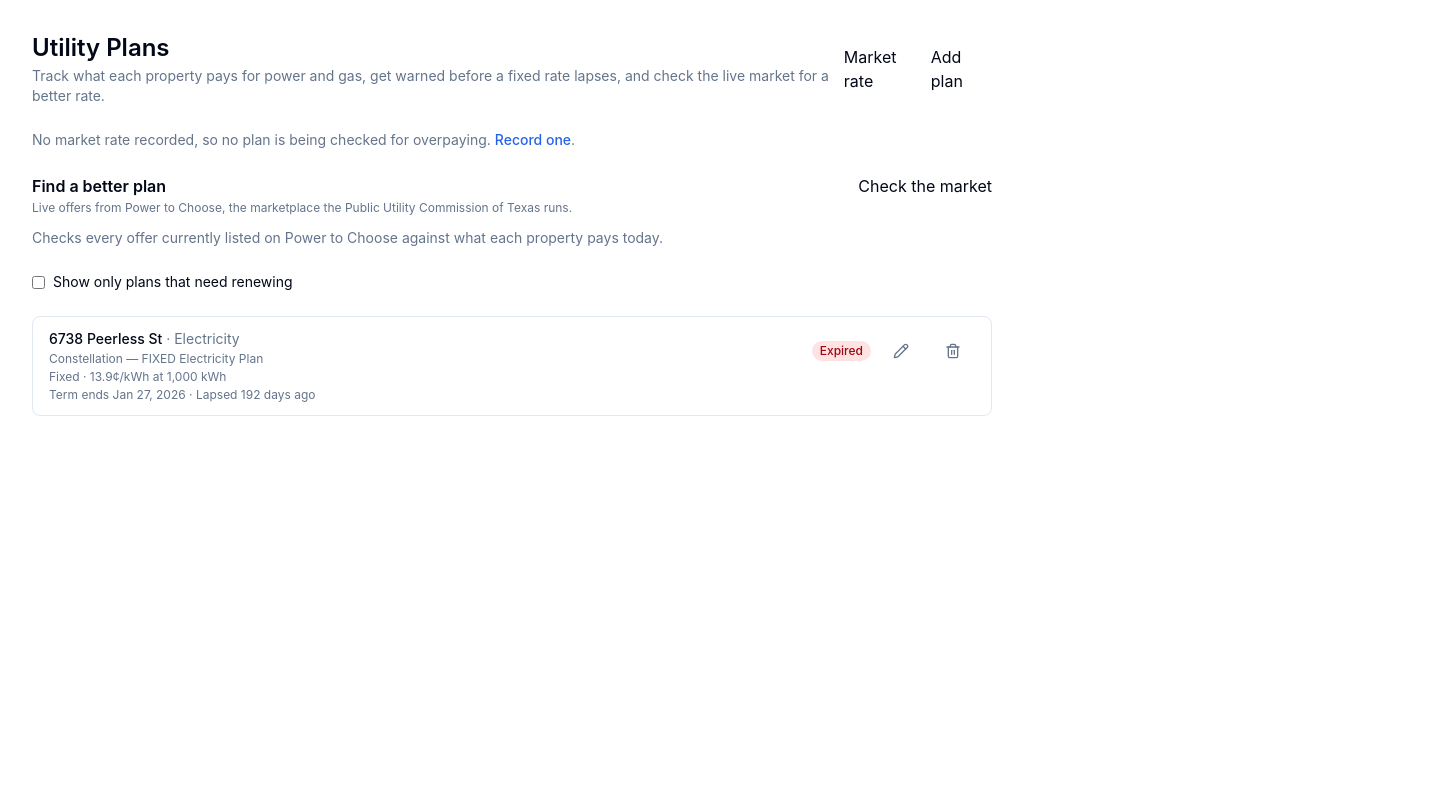
Test: UtilityPlans — edit dialog › closes without leaving the dialog mounted
Click the button with test id "utility-plan-edit-plan-a" at x=901, y=351, box top-left (879, 329), bottom-right (923, 373)
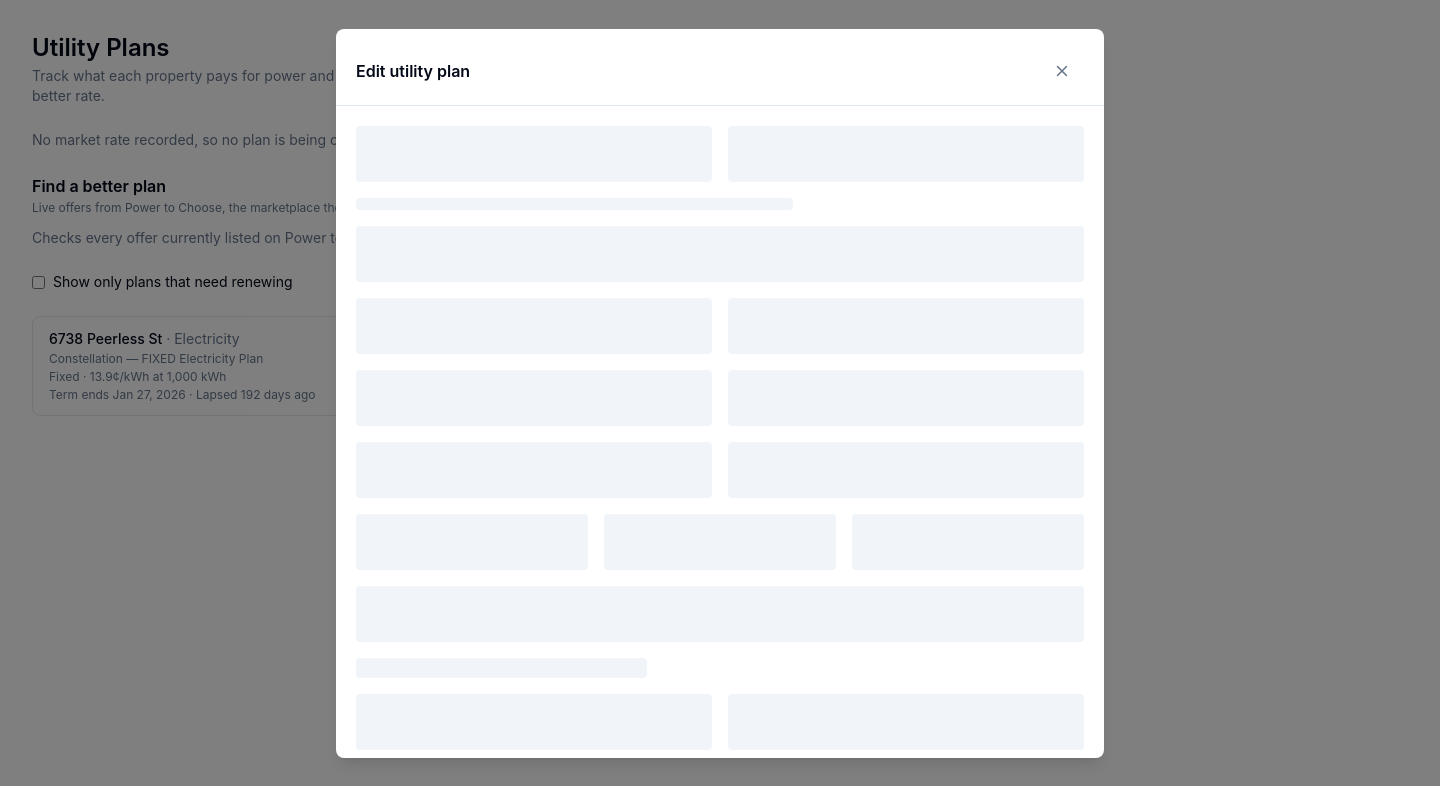
Click the button named "Close" at x=1062, y=70, box top-left (1040, 48), bottom-right (1084, 92)
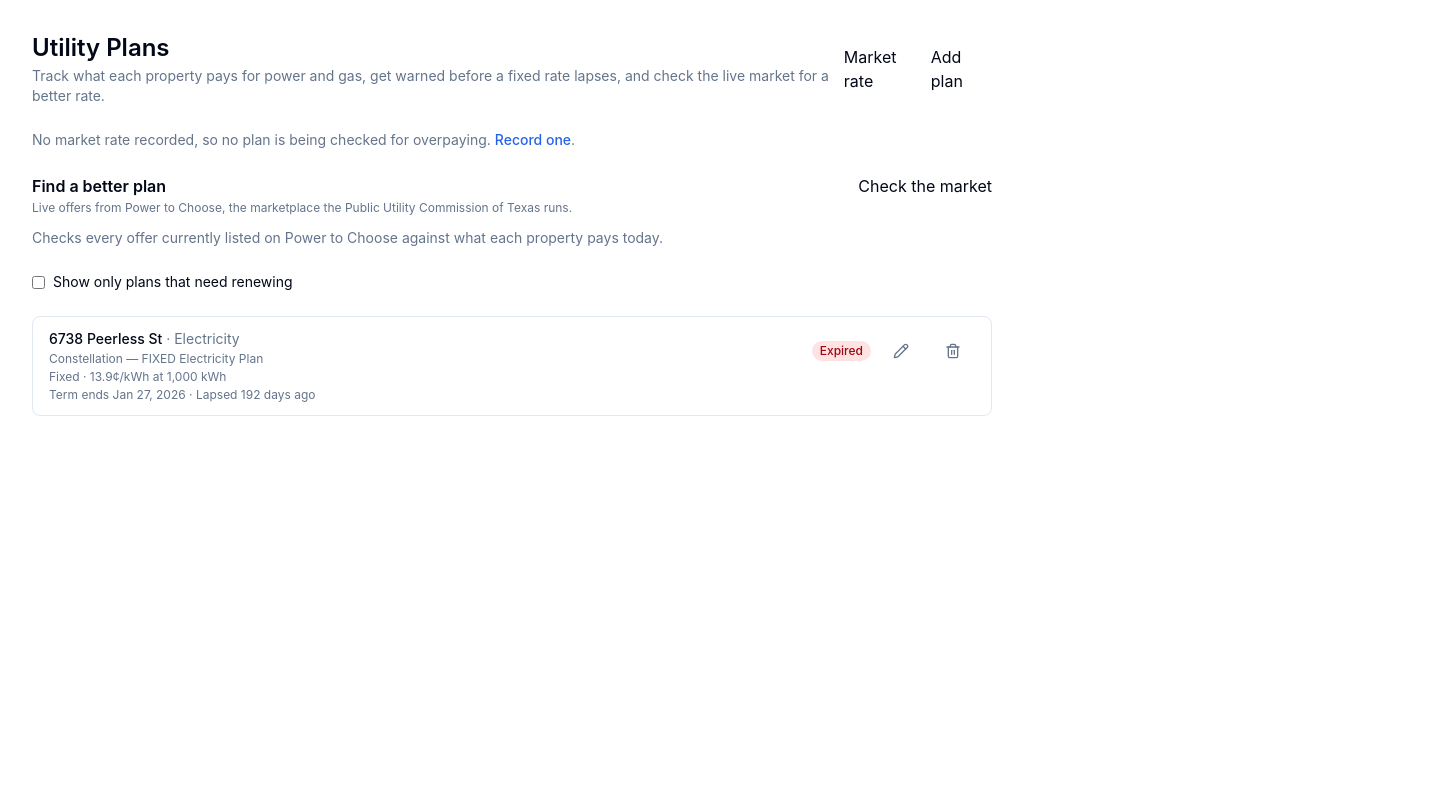
Now the element with test id "edit-utility-plan-dialog" is gone
